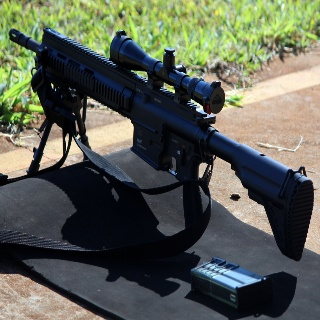rifle: (8, 27, 315, 263)
